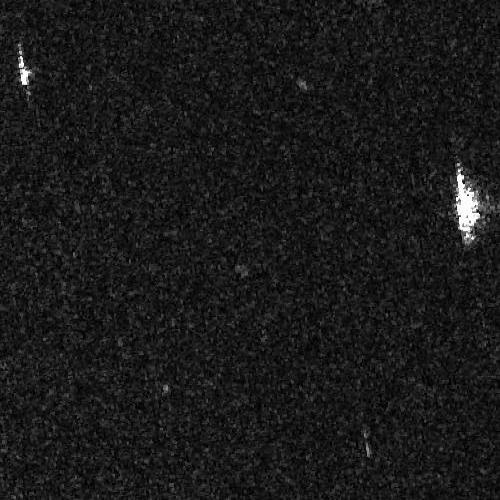ship: (453, 161, 481, 245), (17, 42, 30, 88)
